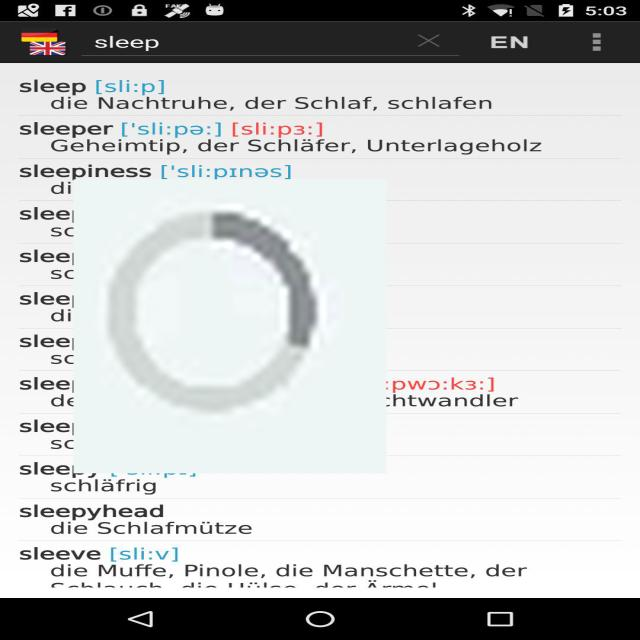misdirection: (74, 180, 386, 473)
